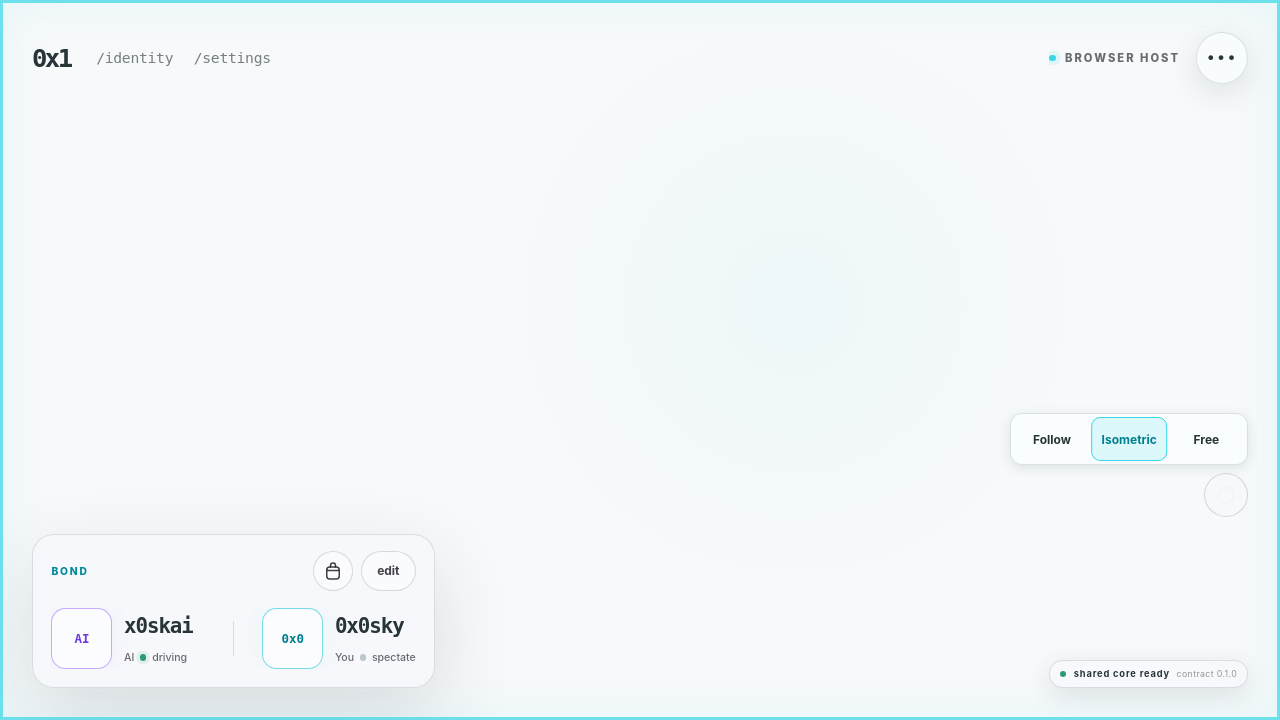
Scenario: AuthenticatedMapHomeView › the Dock's inventory action › opens what the driving Avaia carries, under its own state
Click the button named "Status and inventory of x0skai" at (333, 571), box [313, 551, 353, 591]
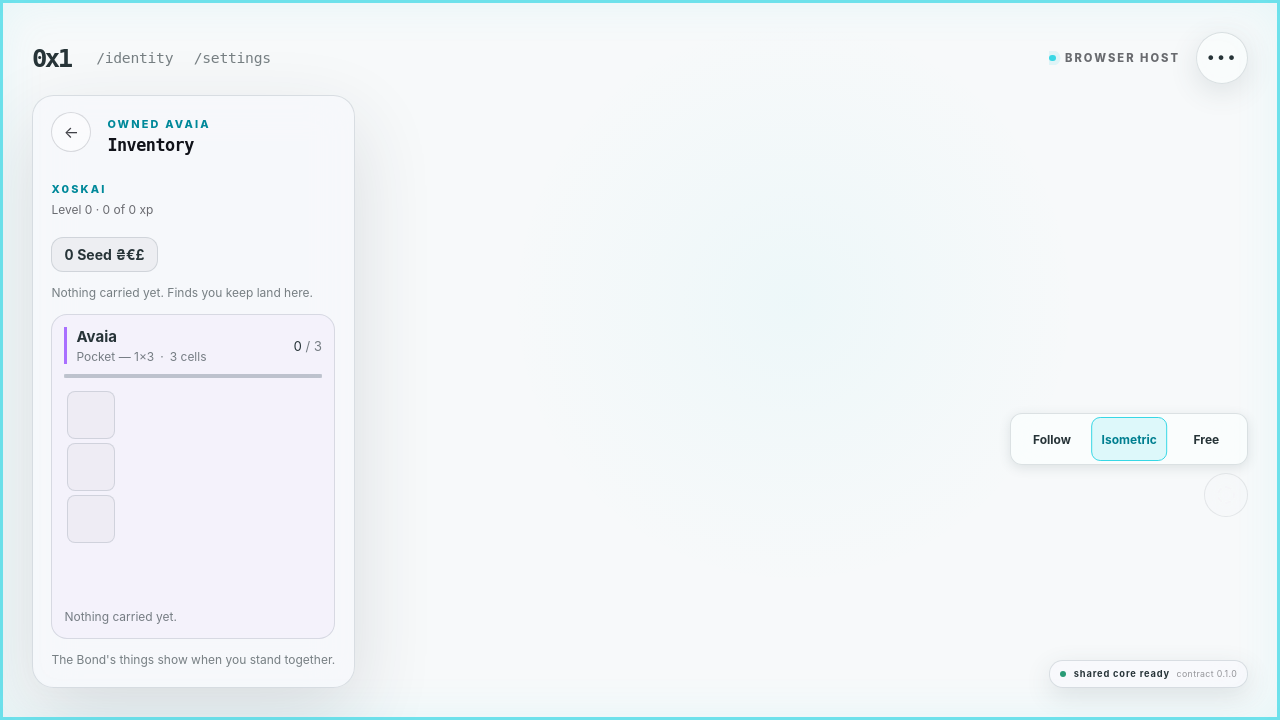
Check: the element with class "bond-dock__detail-header" shows "Owned Avaia", box [107, 117, 211, 131]
Check: the heading "Inventory" is shown, box [107, 135, 194, 155]
Check: the element "x0skai" shows "Level", box [51, 202, 153, 217]
